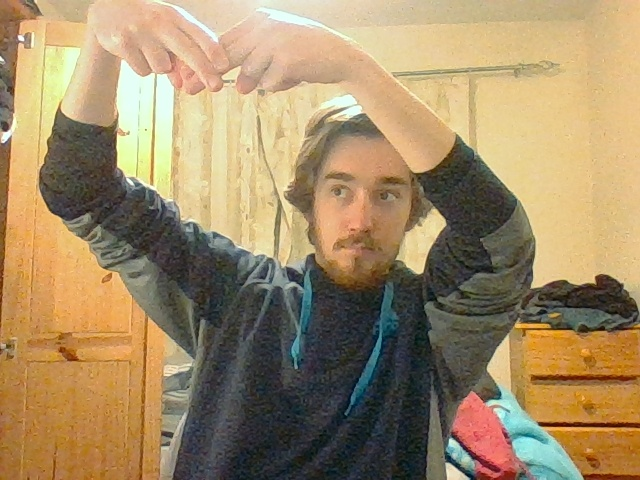father: (164, 2, 271, 96)
